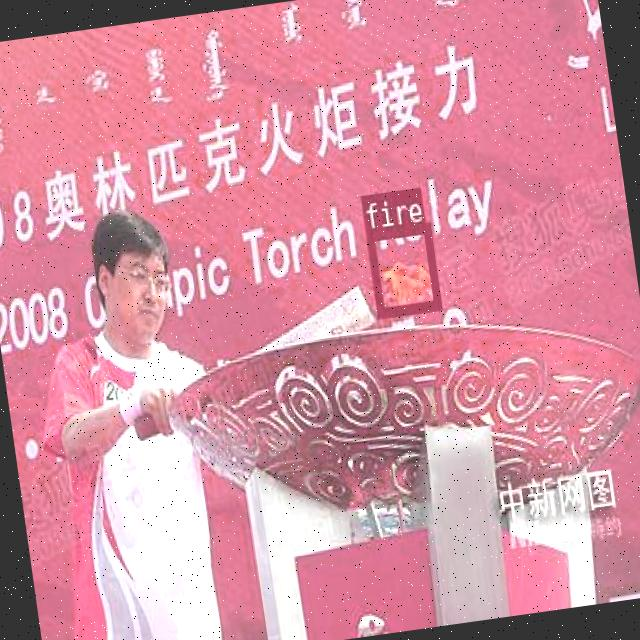fire: (366, 222, 440, 317)
